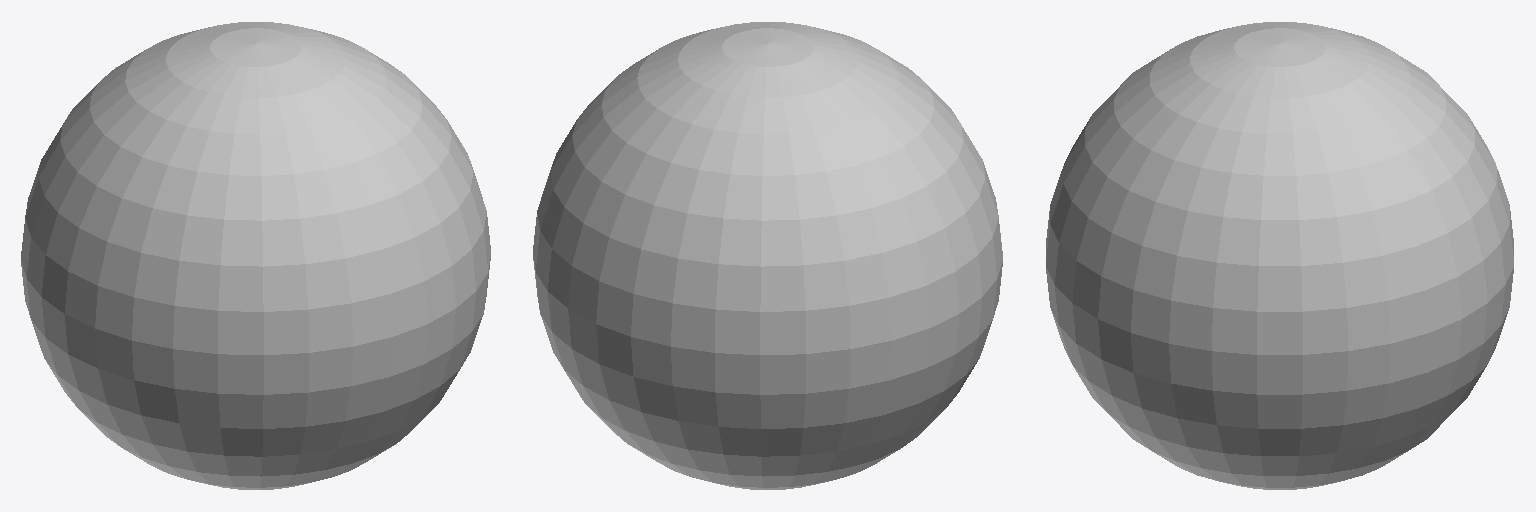
The model's file is sphere_effect.obj.
The picture shows the model from 3 angles: view 1: azimuth 30°, elevation 25°; view 2: azimuth 150°, elevation 25°; view 3: azimuth 270°, elevation 25°; orthographic projection.
Visible parts, largest first — view 1: sphere; view 2: sphere; view 3: sphere.
Boxes of the visible parts, box(x1,y1,x2,y2) form: sphere: box(21, 22, 490, 489); sphere: box(533, 22, 1002, 489); sphere: box(1046, 22, 1513, 489).
Size of the model in its own units: 2 by 2 by 2.